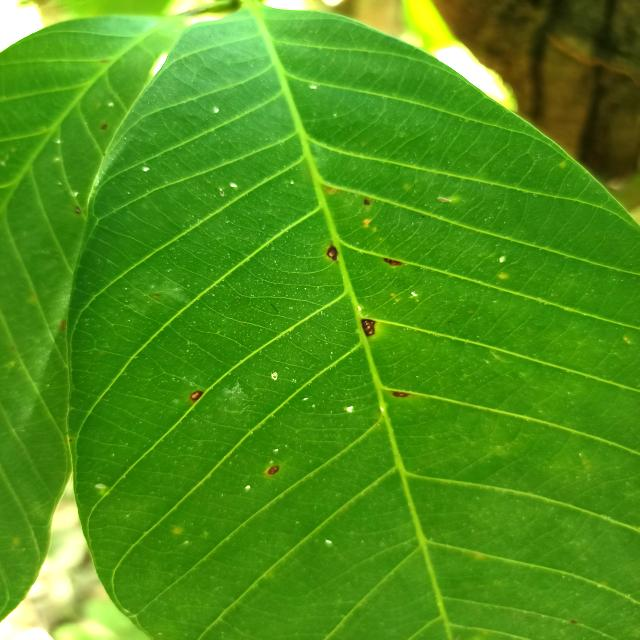Colletotrichum: (361, 318, 375, 336), (326, 246, 338, 259), (190, 390, 203, 401), (268, 464, 279, 474)
